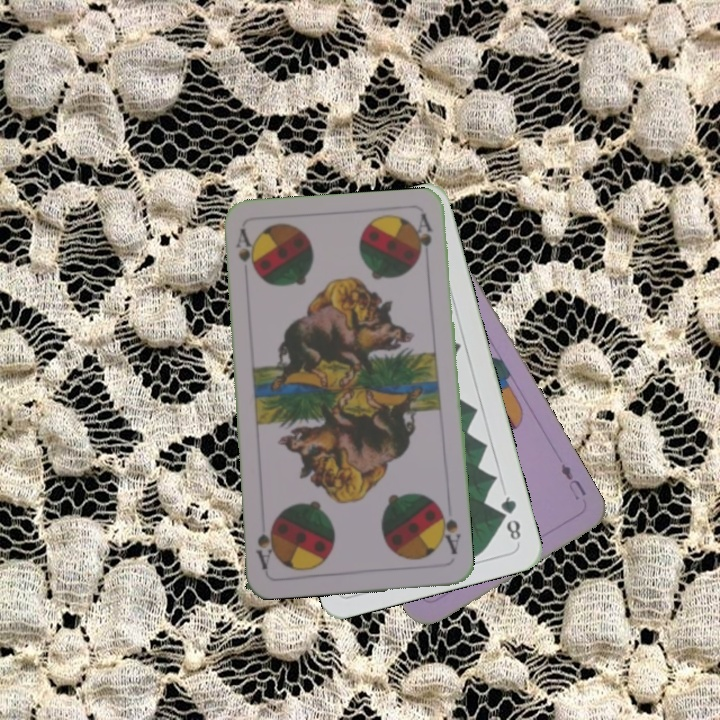EU: (556, 459, 589, 503)
G8: (496, 492, 524, 543)
SA: (231, 224, 260, 280), (434, 502, 463, 557)
